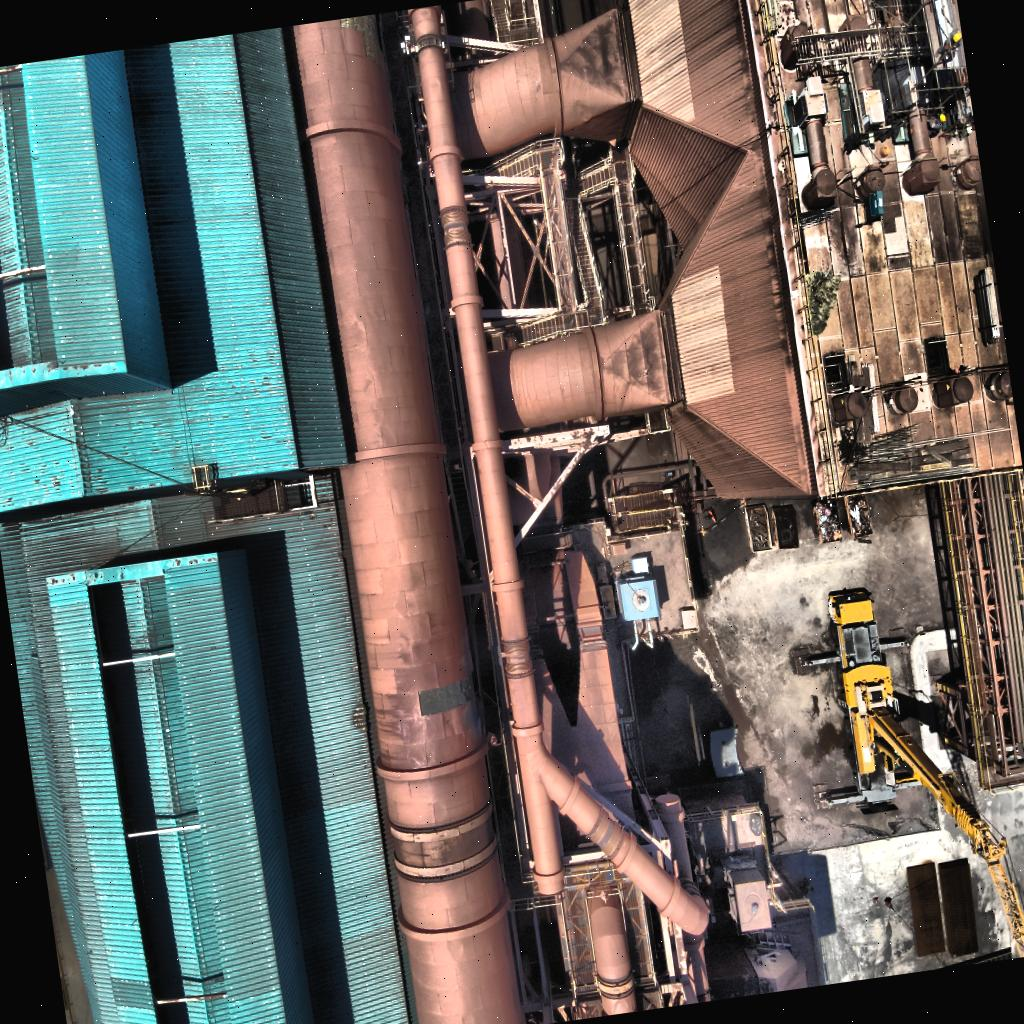Failures: (416, 672, 482, 718), (338, 14, 388, 72)
